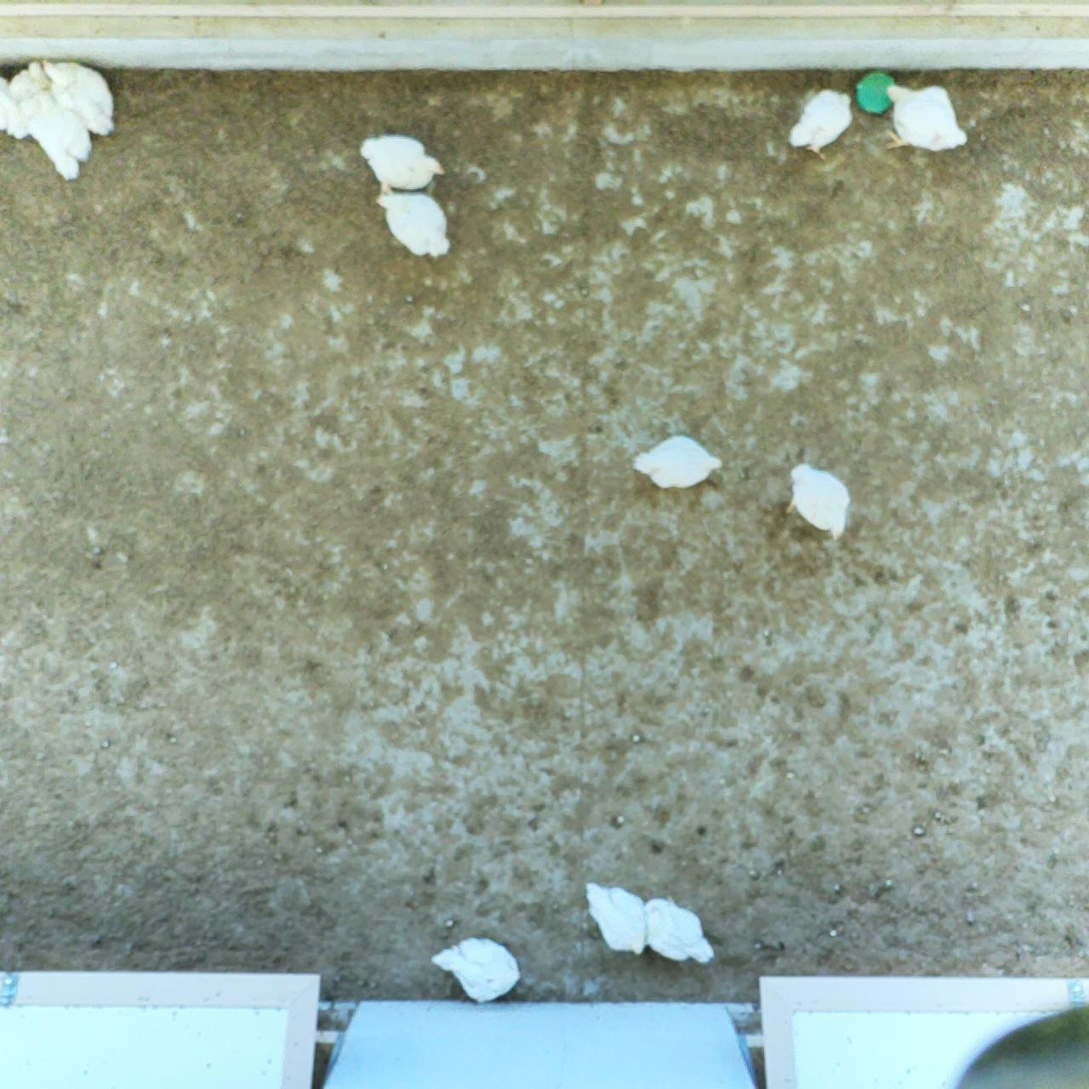chicken: (878, 81, 972, 161), (429, 930, 524, 1007), (373, 186, 459, 267), (18, 92, 94, 180), (39, 56, 118, 138), (782, 458, 854, 546), (638, 891, 717, 970), (629, 432, 725, 495), (355, 130, 446, 195), (785, 84, 859, 161), (582, 877, 651, 958), (0, 58, 50, 140)
